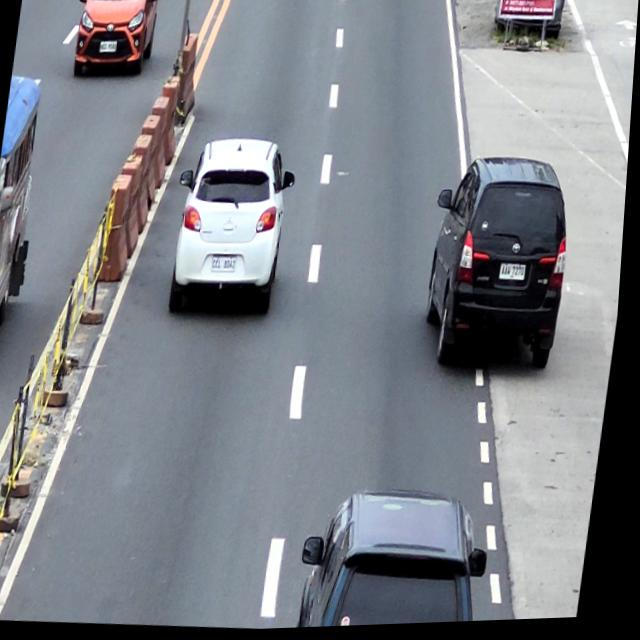Car: (419, 152, 584, 383), (300, 485, 502, 630), (167, 132, 303, 324), (67, 0, 161, 81)
Jeep: (0, 72, 52, 393)
License-Plate: (214, 256, 241, 274), (503, 266, 530, 284), (98, 41, 118, 55)
